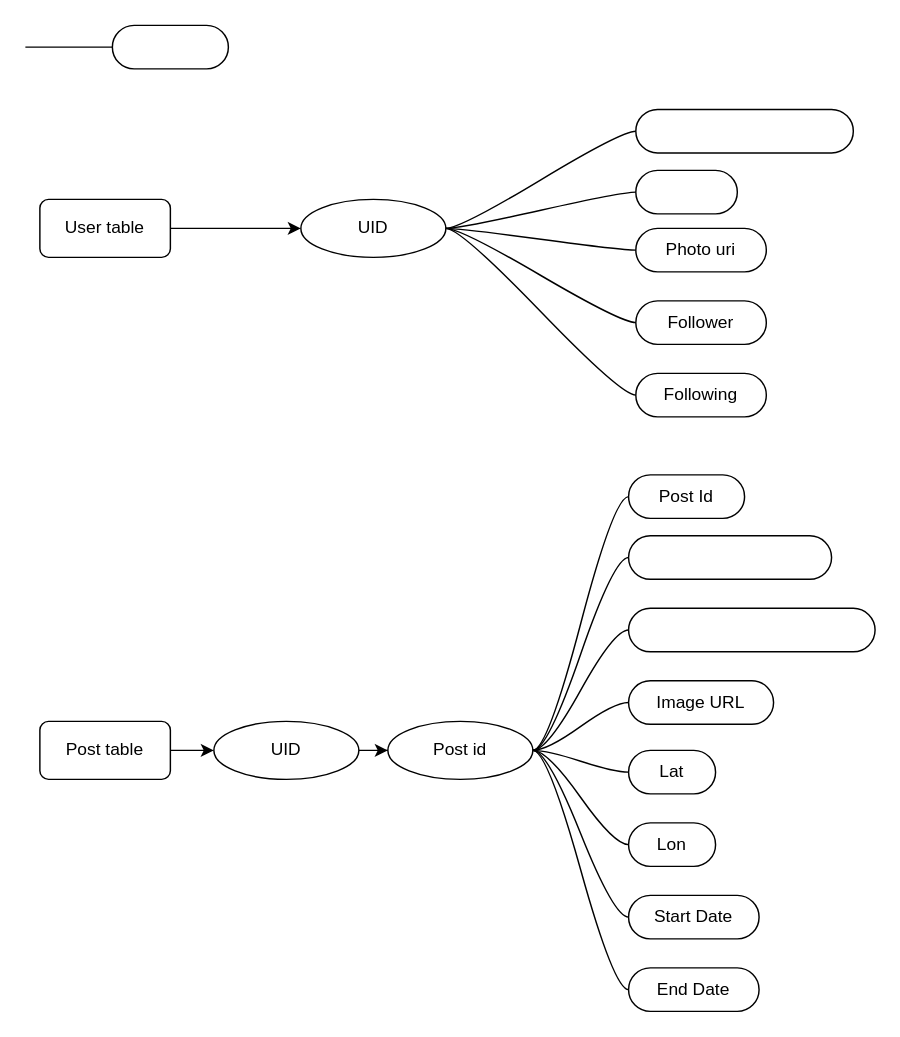
The diagram is 900 pixels wide and 1037 high, and some of its shapes have lost their labels. Each missing label, with the centre of its shape:
"Caption/Trip name" belongs at (729,556).
"Create Date (timestamp)" belongs at (751,629).
"Email" belongs at (685,191).
"Fullname/Username" belongs at (743,130).
"Sample" belongs at (169,46).
